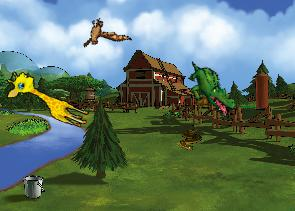crocodile: (176, 59, 245, 119)
eagle: (74, 8, 132, 60)
giraffe: (1, 67, 95, 130)
